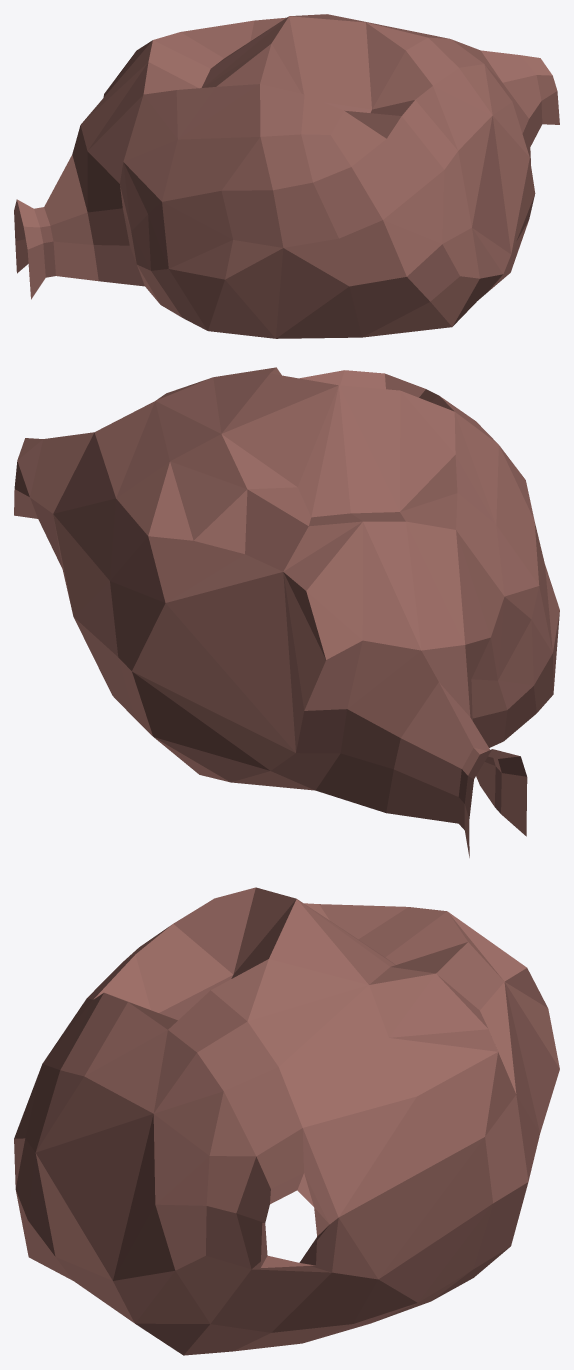
The model's file is Dome-2exits-04.fbx.
3 renders of one model, top to bottom at view 1: azimuth 30°, elevation 25°; view 2: azimuth 150°, elevation 25°; view 3: azimuth 270°, elevation 25°, orthographic. The views are drawn at different scales.
Parts seen in each view (by area): view 1: Dome-2exits-04; view 2: Dome-2exits-04; view 3: Dome-2exits-04.
Boxes of the visible parts, left/top/right/bottom form: Dome-2exits-04: left=14, top=14, right=559, bottom=338; Dome-2exits-04: left=14, top=367, right=559, bottom=857; Dome-2exits-04: left=14, top=887, right=559, bottom=1355.
Size of the model in its own units: 1746 by 2205 by 1268.
